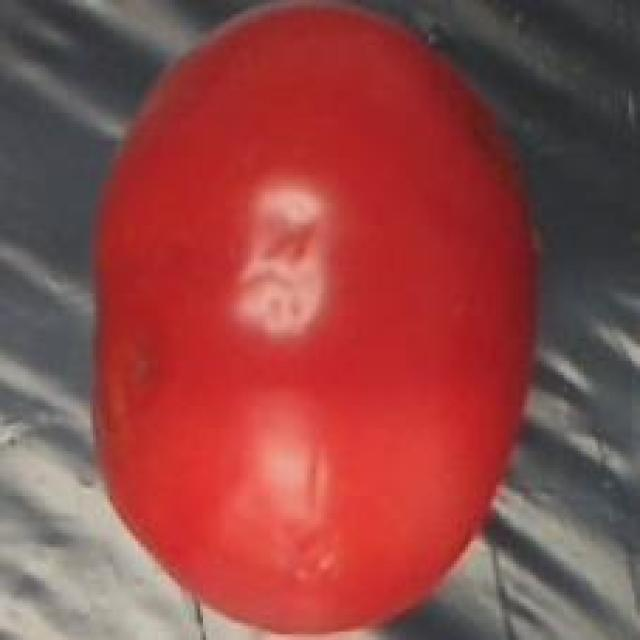ripe tomato: (76, 0, 556, 640)
